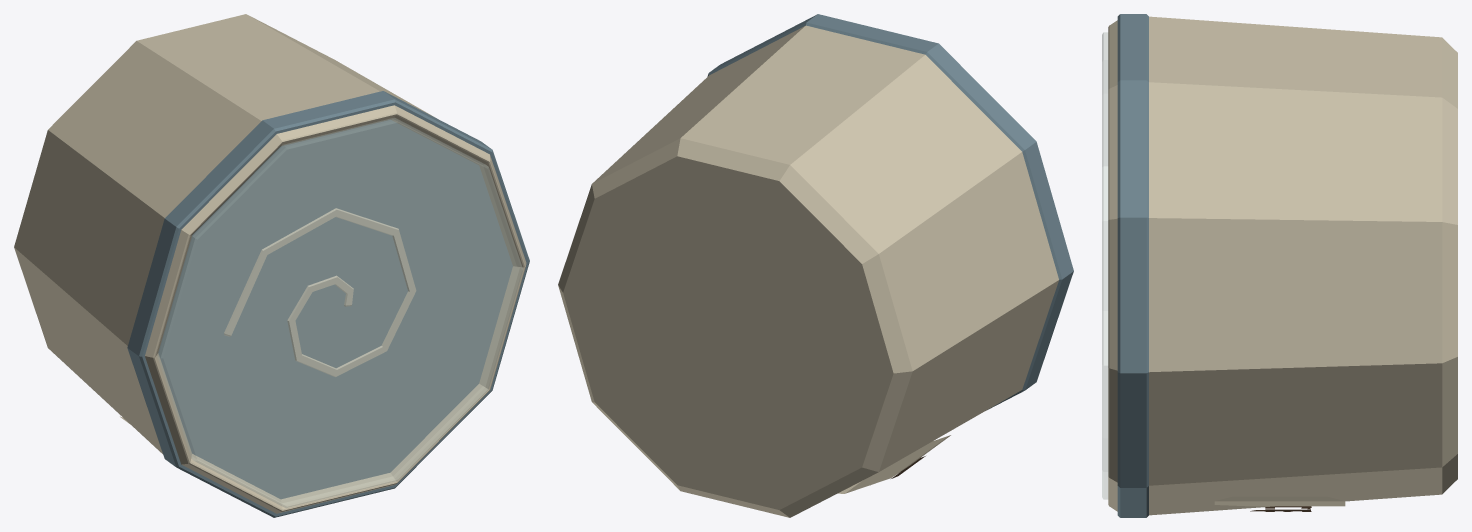
File: ricotta.glb
3 renders of one model, left to right at view 1: azimuth 30°, elevation 25°; view 2: azimuth 150°, elevation 25°; view 3: azimuth 270°, elevation 25°, orthographic. The views are drawn at different scales.
Parts seen in each view (by area): view 1: ricotta; view 2: ricotta; view 3: ricotta.
Part boxes in pixels (x1,y1,x2,y2): ricotta: (14, 14, 529, 517); ricotta: (558, 14, 1073, 517); ricotta: (1102, 14, 1457, 517).
Size of the model in its own units: 0.097 by 0.0931 by 0.068.
